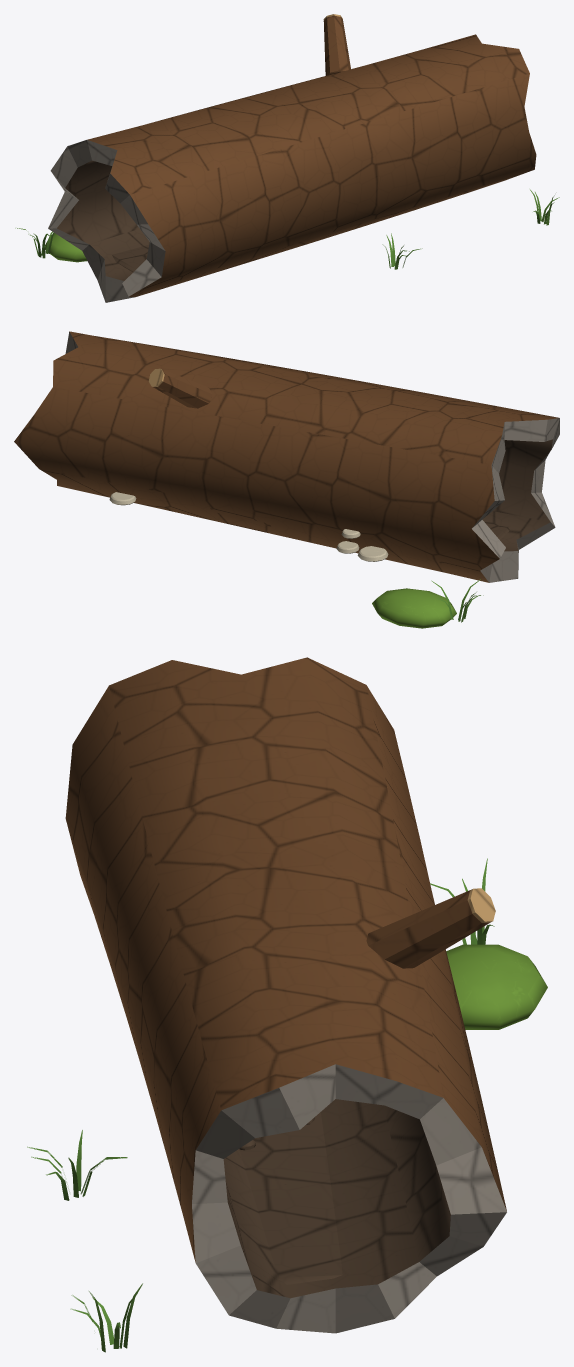
File: hollow_log.glb
3 views of the same model, one above another, from view 1: azimuth 30°, elevation 25°; view 2: azimuth 150°, elevation 25°; view 3: azimuth 270°, elevation 25° (orthographic). The views are drawn at different scales.
Visible parts, largest first — view 1: hollow_log; view 2: hollow_log; view 3: hollow_log.
Part boxes in pixels (<box>): hollow_log: <box>15,14,559,302</box>; hollow_log: <box>14,331,559,628</box>; hollow_log: <box>27,657,547,1352</box>.
Bounding box in the file's own units: 5.48 × 2.09 × 2.71.
Materials: 7 (7 with a texture image).
